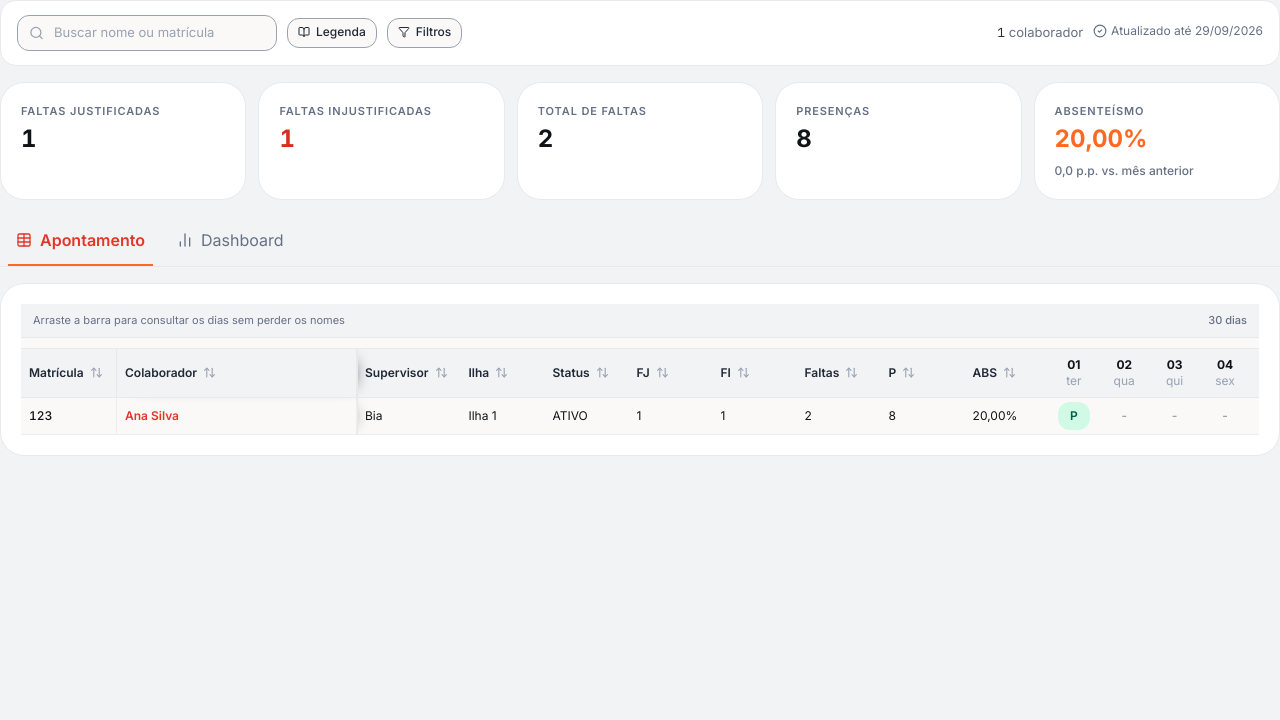
it: AbsPage › mantém filtros recolhidos e mostra a data real da base
Expected: the text "Ana Silva" is shown, [125,408,179,422]
Expected: the text "Atualizado até 29/09/2026" is shown, [1093,23,1263,39]
Click the button "Filtros".
click(425, 33)  # box [387,18,462,48]
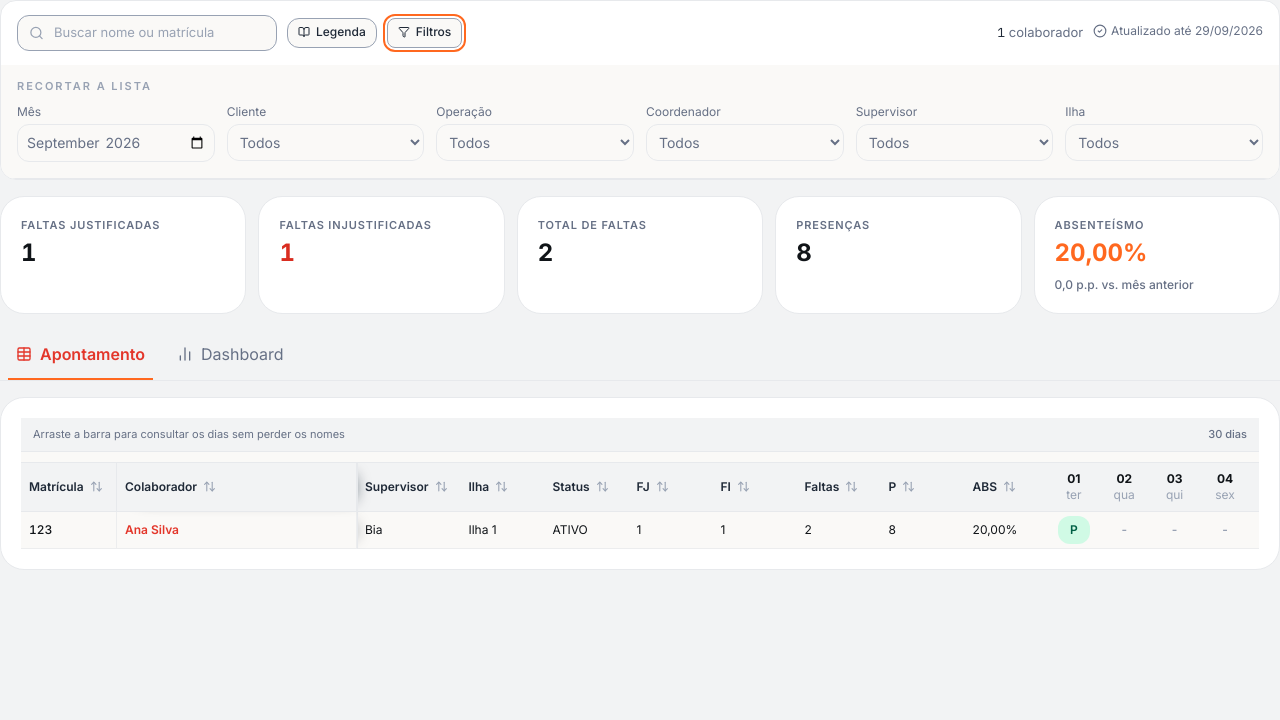
Expected: the dropdown labelled "Cliente" is shown, [227,124,424,160]
